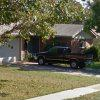Car: (34, 40, 95, 70)
